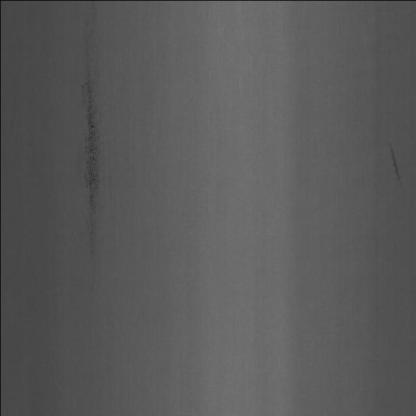inclusion: (64, 70, 112, 252)
